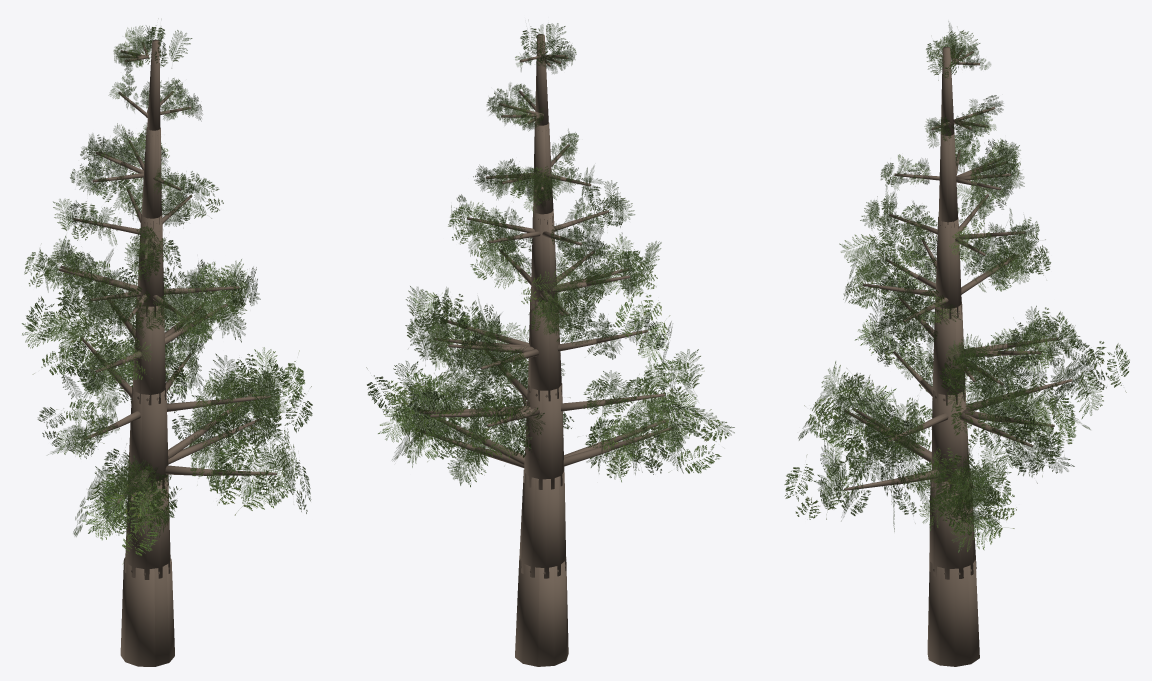
The model's file is pine_1.glb.
The picture shows the model from 3 angles, left to right: view 1: azimuth 30°, elevation 25°; view 2: azimuth 150°, elevation 25°; view 3: azimuth 270°, elevation 25°; orthographic projection.
Visible parts, largest first — view 1: pine; view 2: pine; view 3: pine.
Boxes of the visible parts, x1=… form: pine: x1=21, y1=18, x2=312, y2=666; pine: x1=366, y1=23, x2=734, y2=666; pine: x1=784, y1=21, x2=1129, y2=666.
Size of the model in its own units: 5.65 by 10.79 by 5.7.
Materials: 2 (1 with a texture image).
